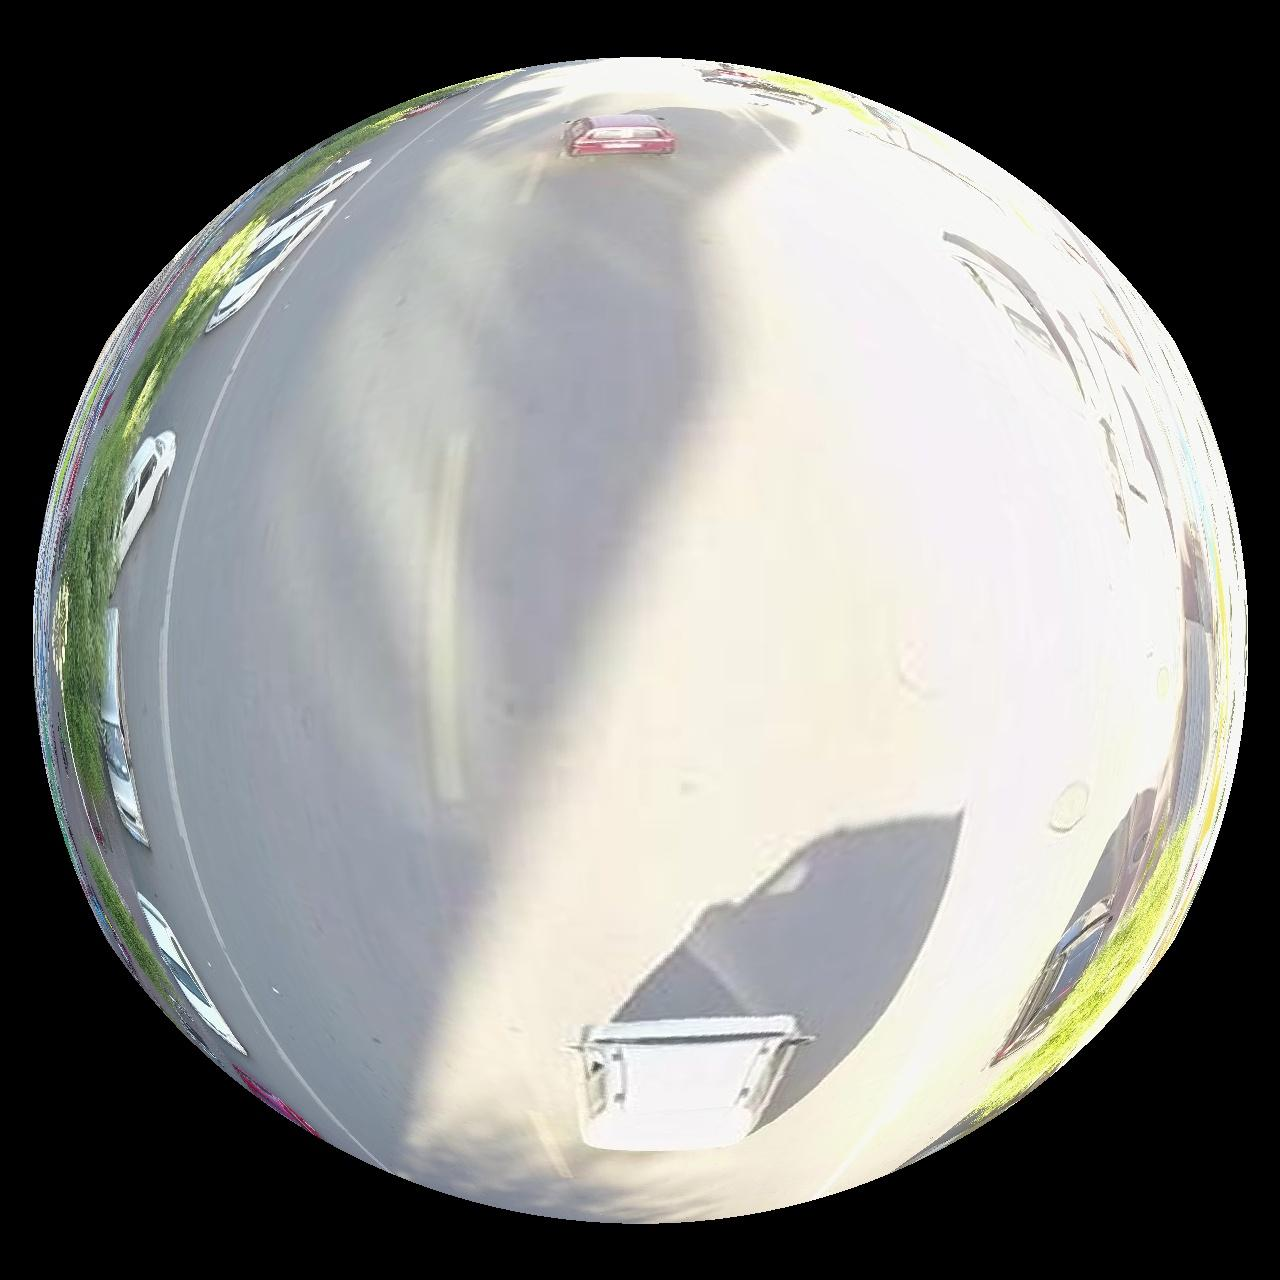cars: (573, 1016, 815, 1153), (136, 893, 245, 1056), (205, 199, 333, 331), (98, 608, 147, 846), (116, 431, 175, 563), (565, 113, 678, 155)
